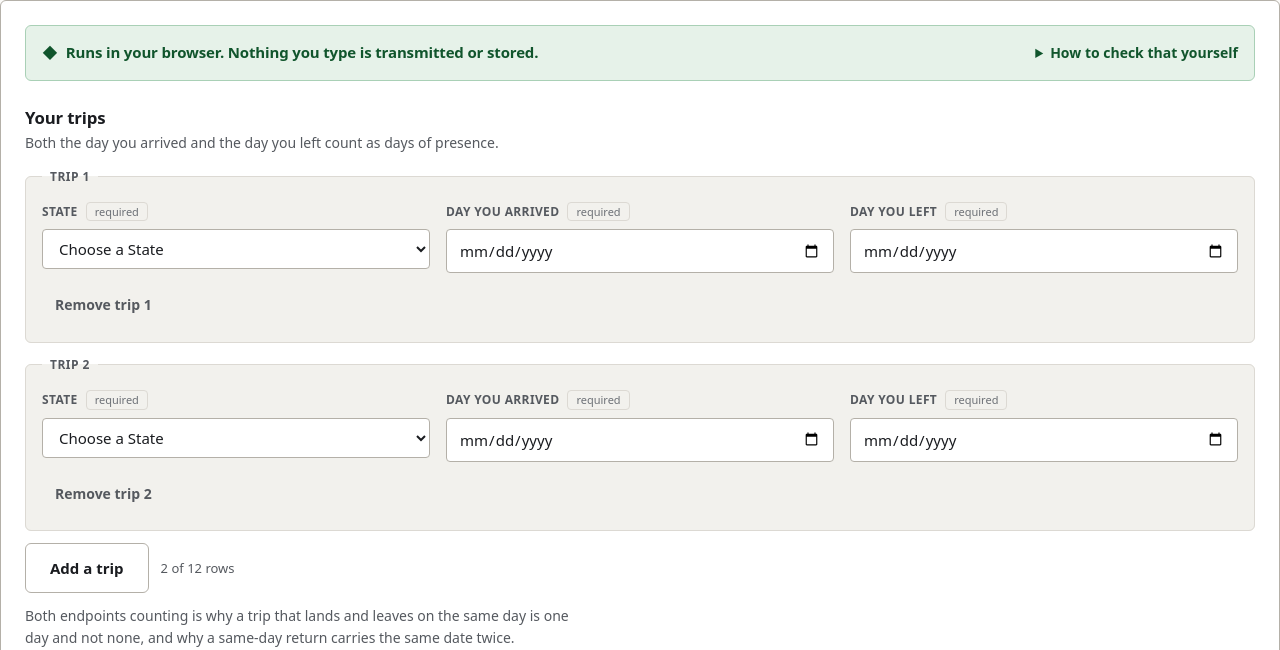
Test case: the two determinate answers › shows the working: the window, the per-trip columns and the merged total
The image size is (1280, 650).
Select "Spain" in the 1st dropdown labelled "State required" at (236, 249), box [42,229,430,269]
Type "2026-07-01" into the 1st date field labelled "Day you arrived required".
click(640, 251); type("2026-07-01")  # box [446,229,834,273]
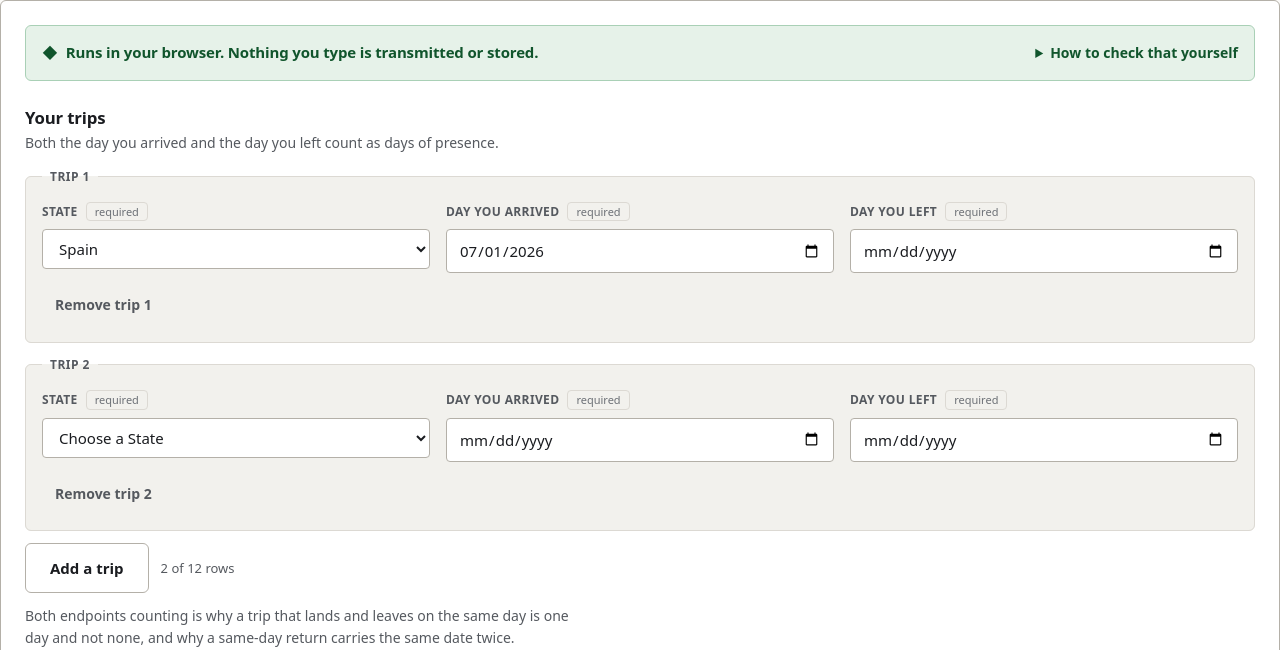
Type "2026-07-10" into the 1st date field labelled "Day you left required".
click(1044, 251); type("2026-07-10")  # box [850,229,1238,273]
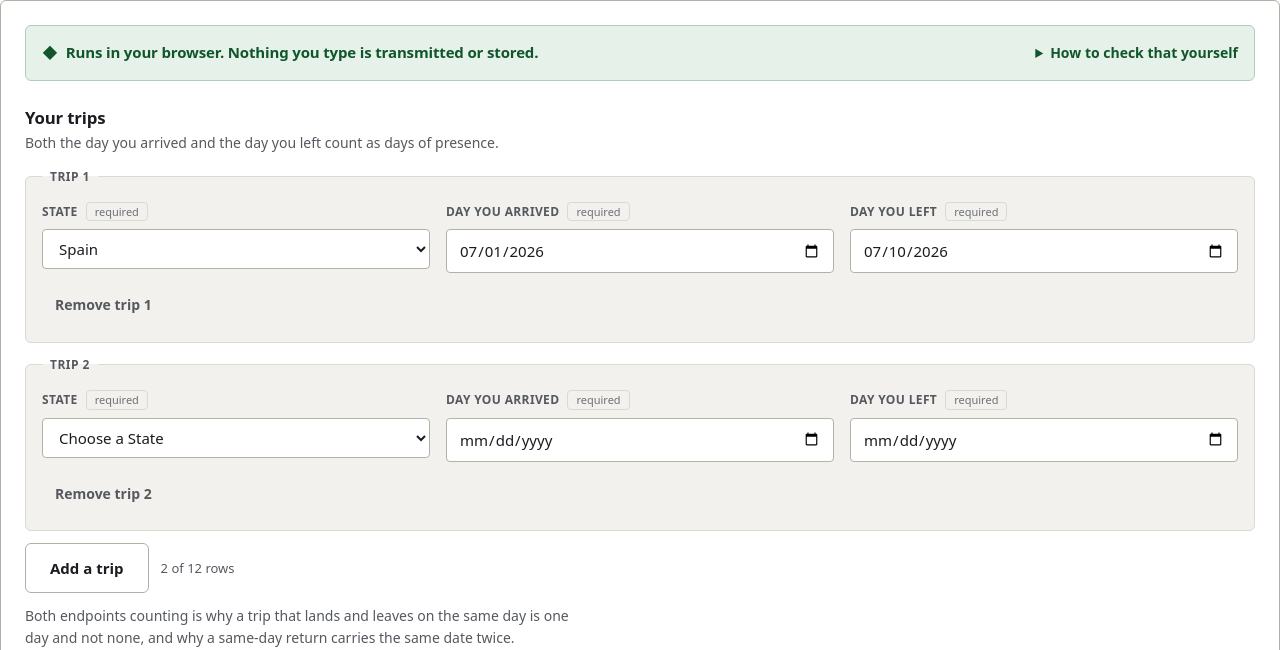
Select "France" in the 2nd dropdown labelled "State required" at (236, 438), box [42,418,430,458]
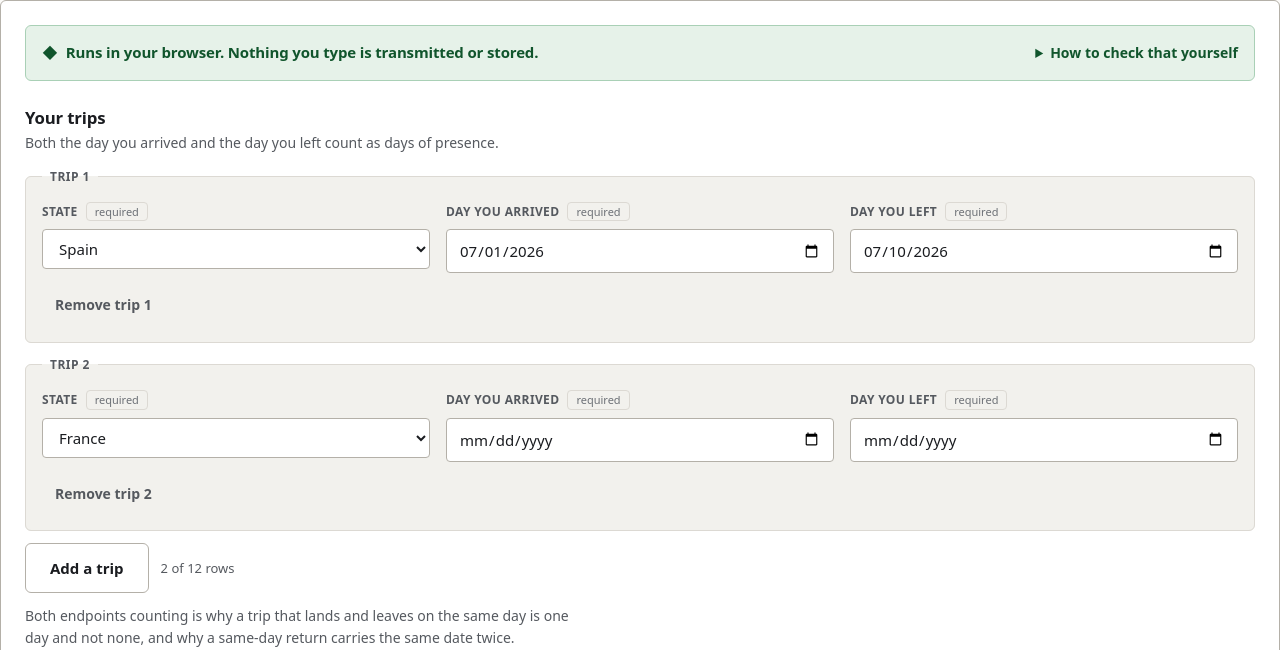
Type "2026-07-05" into the 2nd date field labelled "Day you arrived required".
click(640, 440); type("2026-07-05")  # box [446,418,834,462]
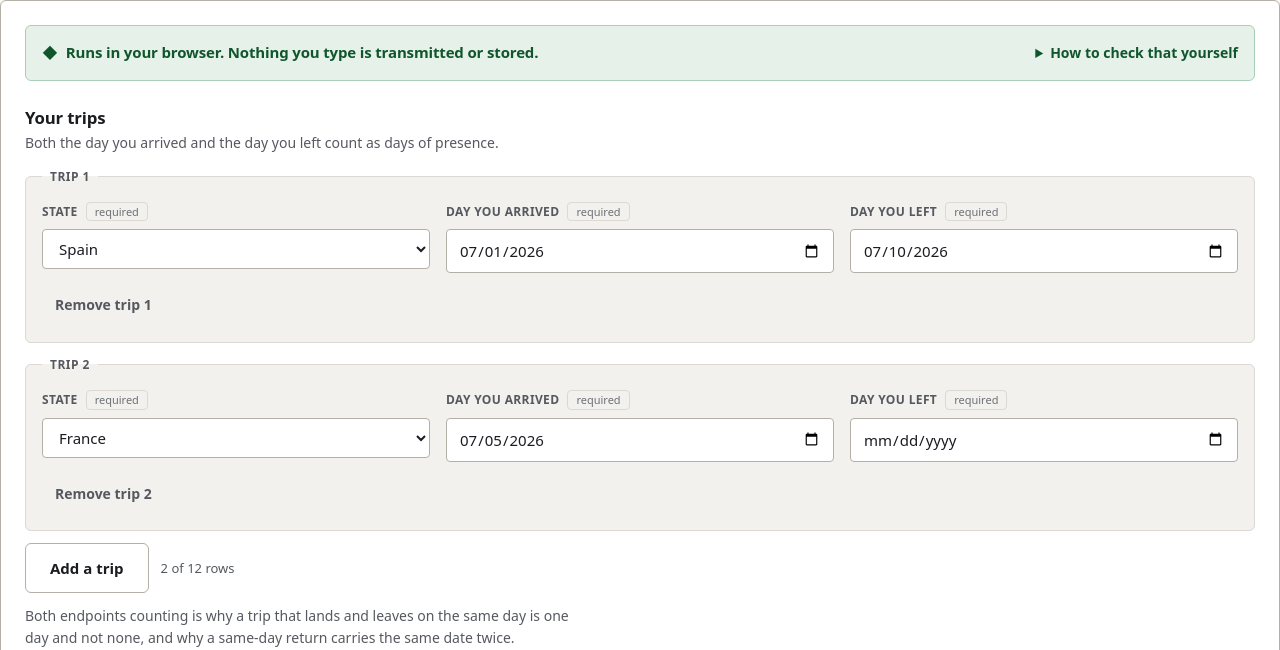
Type "2026-07-15" into the 2nd date field labelled "Day you left required".
click(1044, 440); type("2026-07-15")  # box [850,418,1238,462]
(page scrolled)
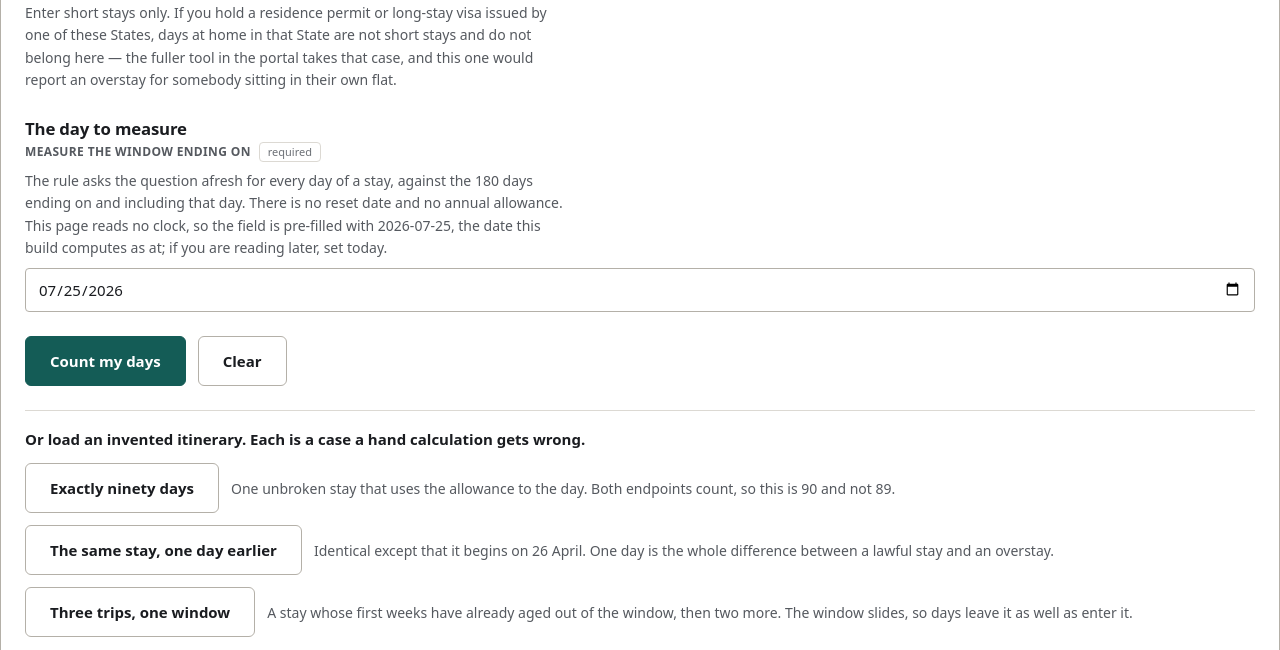
Click the button "Count my days".
click(105, 360)  # box [25,336,186,386]
(page scrolled)
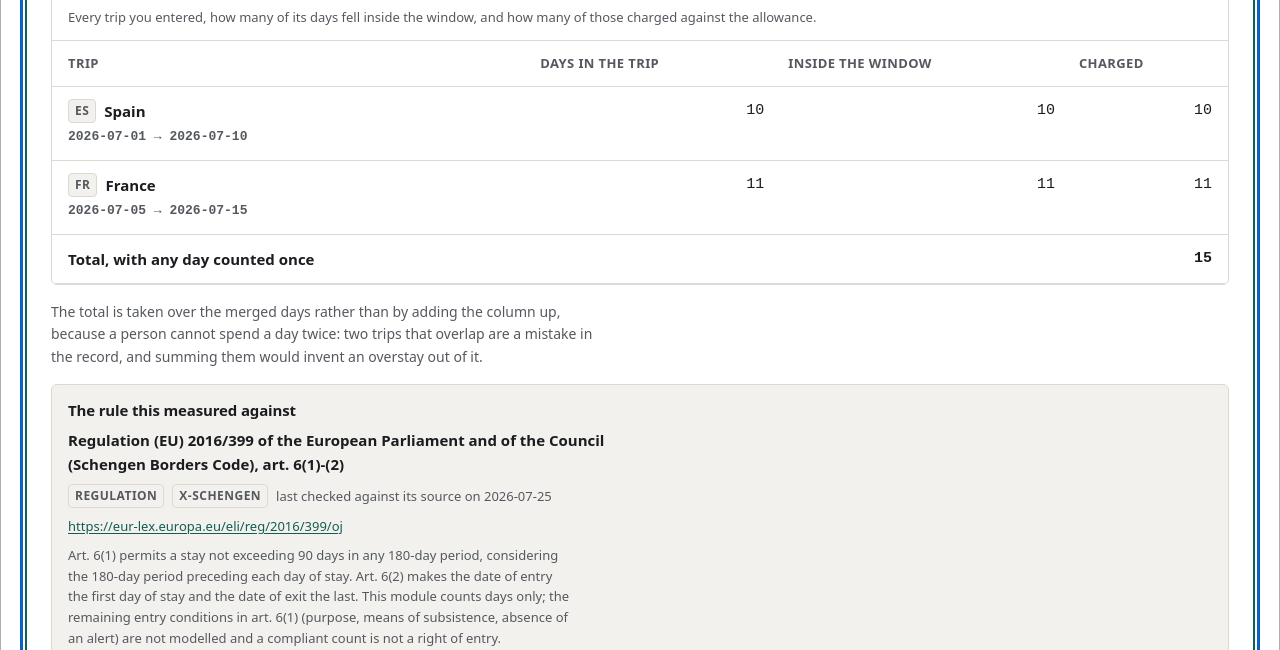
Expected: the element that starts with "What the rule makes of your dates" shows "Total, with any day counted once", [68,249,314,269]
Expected: the text "15" is shown, [1194,250,1212,267]
